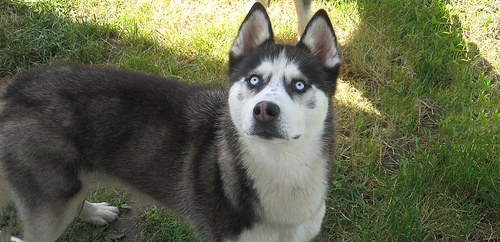dog: (3, 0, 343, 241)
